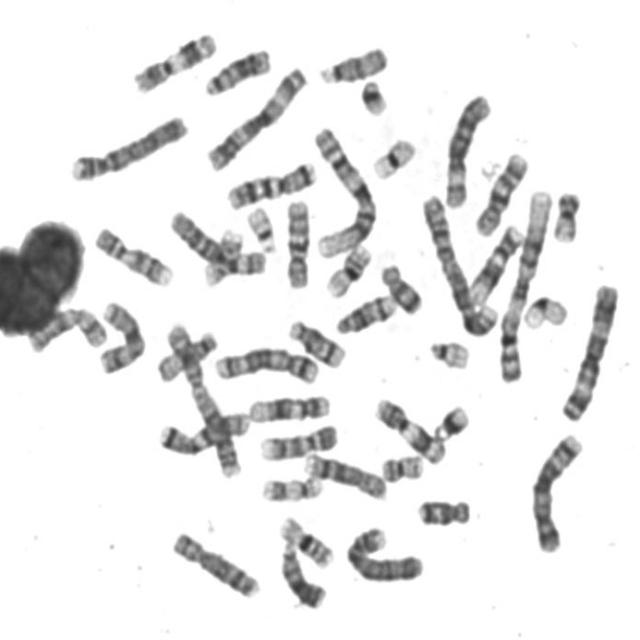A1: (494, 182, 554, 384), (308, 121, 378, 260)
A2: (160, 318, 244, 481), (417, 190, 499, 340)
A3: (202, 60, 310, 173), (557, 278, 621, 424)
B4: (65, 109, 189, 184), (341, 520, 425, 584)
B5: (526, 428, 586, 556), (210, 342, 320, 386)
C10: (471, 146, 531, 238), (280, 194, 313, 291)
C11: (127, 26, 219, 96), (370, 393, 449, 467)
C12: (464, 219, 526, 306), (243, 390, 332, 424)
C6: (165, 204, 269, 278), (440, 88, 494, 211)
C7: (222, 156, 318, 212), (153, 404, 252, 458)
C8: (166, 526, 262, 600), (299, 447, 390, 502)
C9: (88, 221, 175, 288), (255, 419, 341, 463)
D13: (200, 43, 272, 98), (275, 537, 328, 611)
D14: (284, 314, 347, 371), (331, 289, 399, 336)
D15: (152, 325, 220, 384), (314, 41, 390, 86)
E16: (274, 511, 336, 571), (321, 238, 374, 300)
E17: (199, 224, 245, 288), (256, 470, 325, 504)
E18: (375, 258, 424, 316), (413, 493, 473, 529)
F19: (368, 133, 418, 182), (519, 290, 570, 331)
F20: (548, 186, 582, 245), (377, 448, 426, 485)
G21: (429, 399, 471, 442), (354, 74, 390, 118)
G22: (243, 200, 280, 255), (425, 335, 472, 372)
X: (93, 295, 148, 376)
